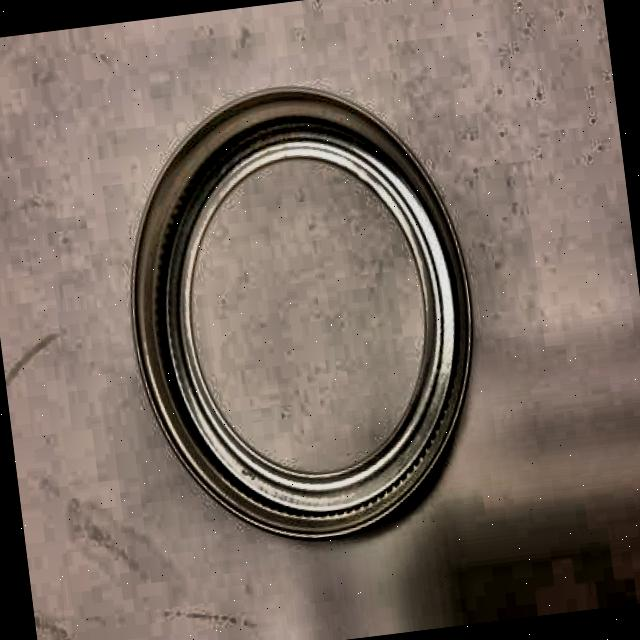metal: (108, 68, 500, 566)
